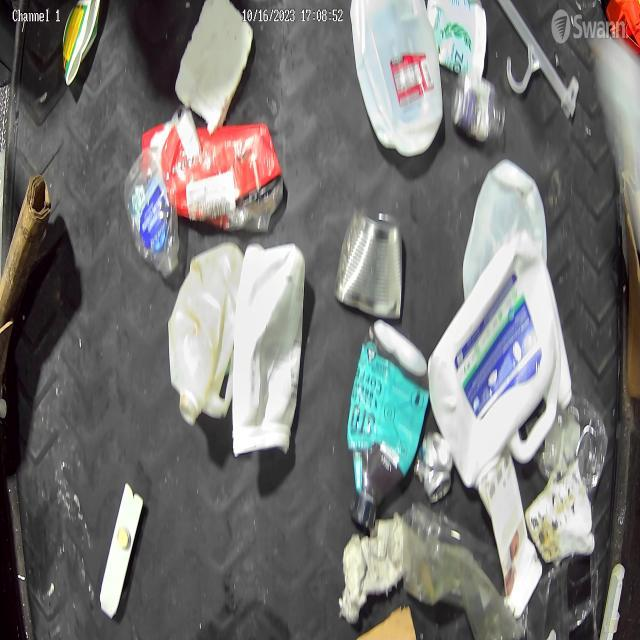can: (337, 208, 403, 318)
milk_jug: (432, 238, 562, 486), (232, 242, 306, 452), (350, 0, 444, 156), (167, 243, 238, 431), (462, 159, 548, 289)
non_white_jug: (349, 322, 430, 525), (145, 118, 284, 215)
plastic_bottle: (122, 148, 176, 258)
